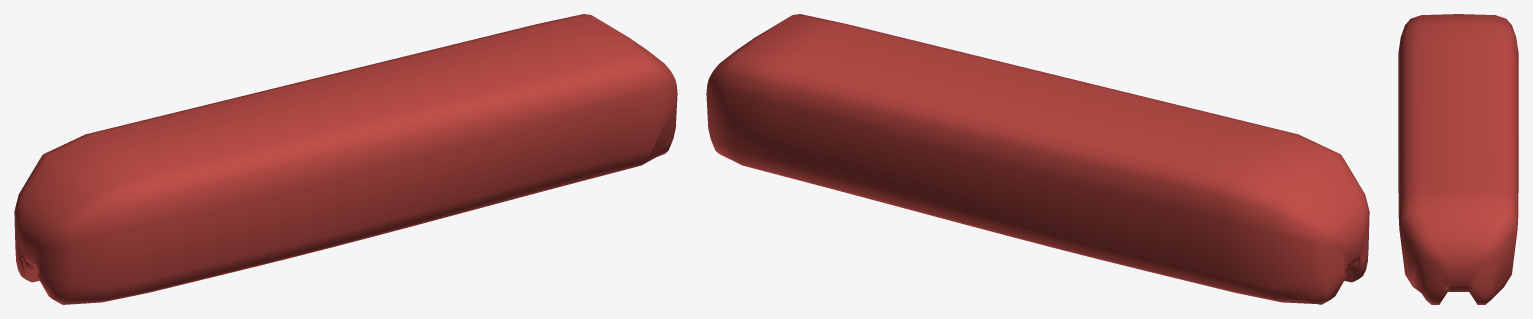
File: coffin_lod1.glb
3 renders of one model, left to right at view 1: azimuth 30°, elevation 25°; view 2: azimuth 150°, elevation 25°; view 3: azimuth 270°, elevation 25°, orthographic. The views are drawn at different scales.
Visible parts, largest first — view 1: coffin_lod1; view 2: coffin_lod1; view 3: coffin_lod1.
Boxes of the visible parts, x1,y1,x2,y2 form: coffin_lod1: (14, 14, 677, 304); coffin_lod1: (706, 14, 1369, 304); coffin_lod1: (1398, 14, 1518, 304).
Bounding box in the file's own units: 1 × 0.1846 × 0.2197.
